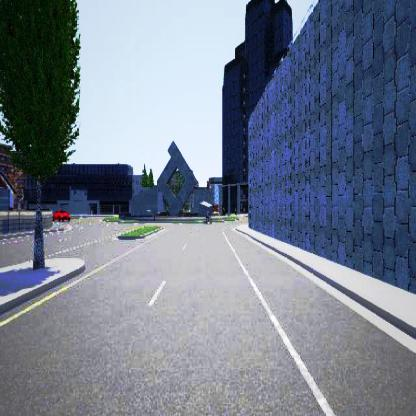bike: (201, 209, 214, 223)
vehicle: (52, 207, 70, 220)
